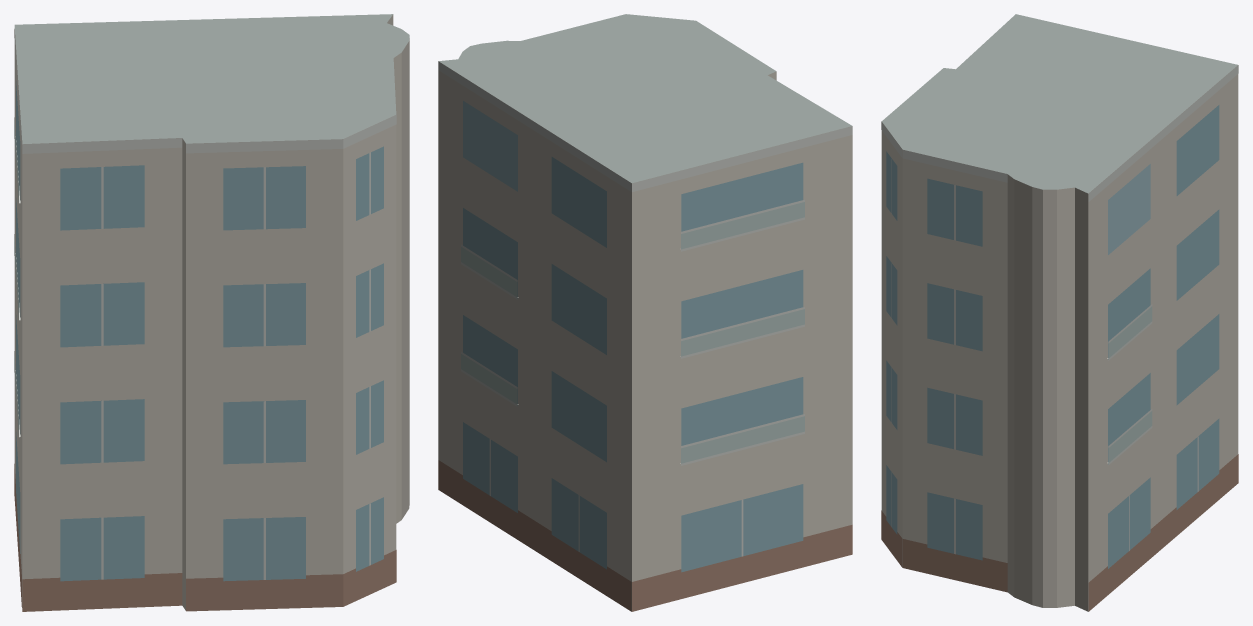
The model's file is survey-upis-32733076.glb.
The picture shows the model from 3 angles, left to right: view 1: azimuth 30°, elevation 25°; view 2: azimuth 150°, elevation 25°; view 3: azimuth 270°, elevation 25°; orthographic projection. The views are drawn at different scales.
Visible parts, largest first — view 1: survey-upis-32733076.tmp; view 2: survey-upis-32733076.tmp; view 3: survey-upis-32733076.tmp.
Boxes of the visible parts, box(x1,y1,x2,y2) form: survey-upis-32733076.tmp: box(14, 14, 409, 611); survey-upis-32733076.tmp: box(438, 14, 852, 611); survey-upis-32733076.tmp: box(881, 14, 1238, 611).
Size of the model in its own units: 10.78 by 11.7 by 9.05.
